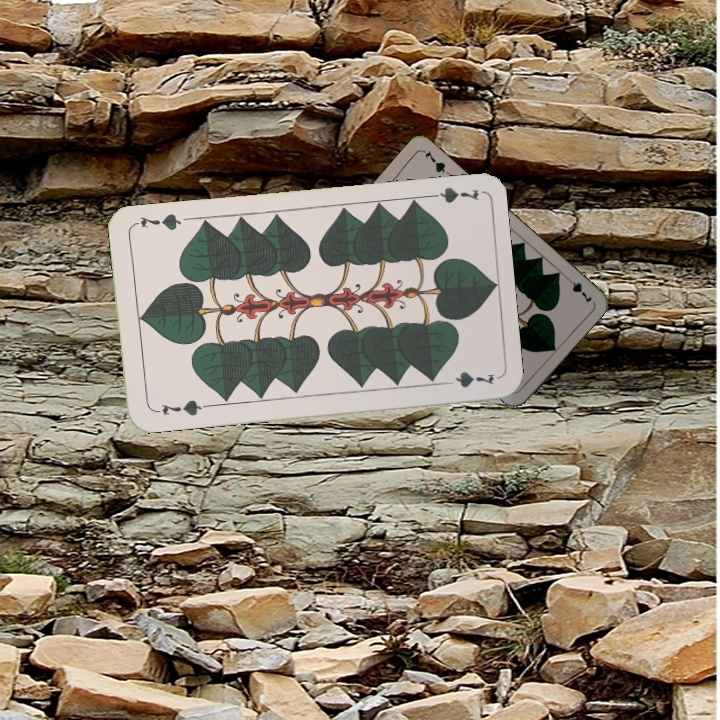G7: (421, 183, 481, 206), (150, 396, 209, 419), (561, 272, 595, 306)
